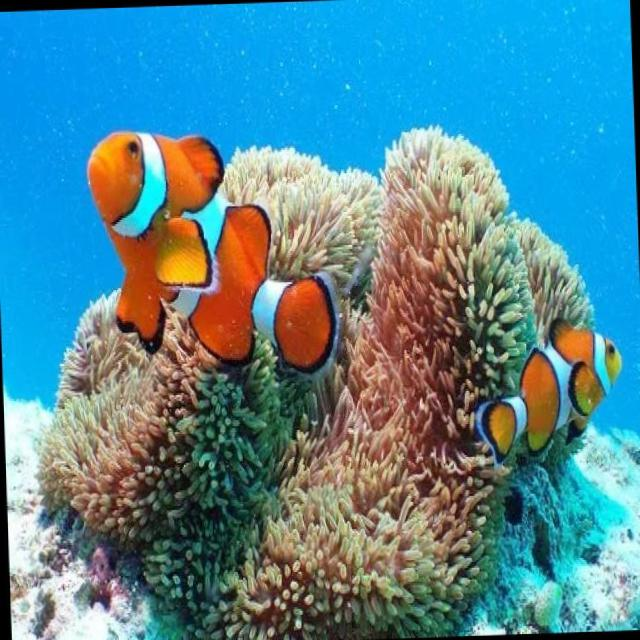ClownFish: (84, 127, 344, 390), (481, 318, 628, 464)
